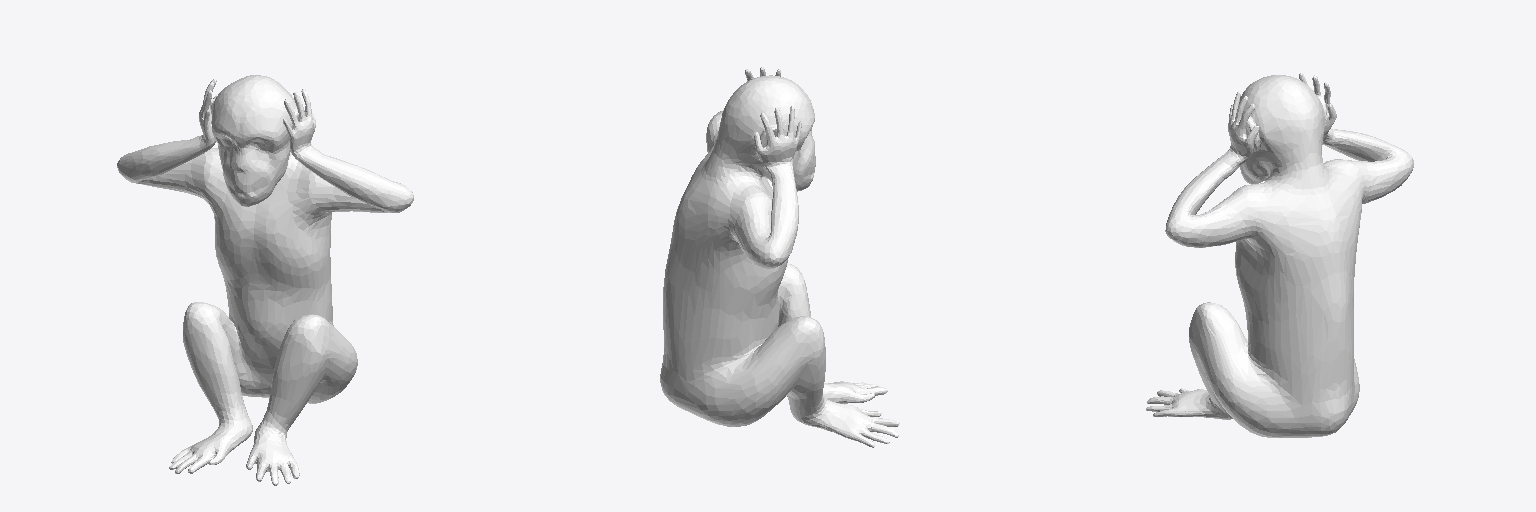
File: monkey.obj
The picture shows the model from 3 angles: view 1: azimuth 30°, elevation 25°; view 2: azimuth 150°, elevation 25°; view 3: azimuth 270°, elevation 25°; orthographic projection.
Visible parts, largest first — view 1: 14090__Hear__No__Evil__Monkey_v2; view 2: 14090__Hear__No__Evil__Monkey_v2; view 3: 14090__Hear__No__Evil__Monkey_v2.
Part boxes in pixels (x1,y1,x2,y2): 14090__Hear__No__Evil__Monkey_v2: (117, 75, 413, 485); 14090__Hear__No__Evil__Monkey_v2: (660, 67, 899, 447); 14090__Hear__No__Evil__Monkey_v2: (1146, 73, 1413, 437).
Bounding box in the file's own units: 2.59 × 4.15 × 2.85.